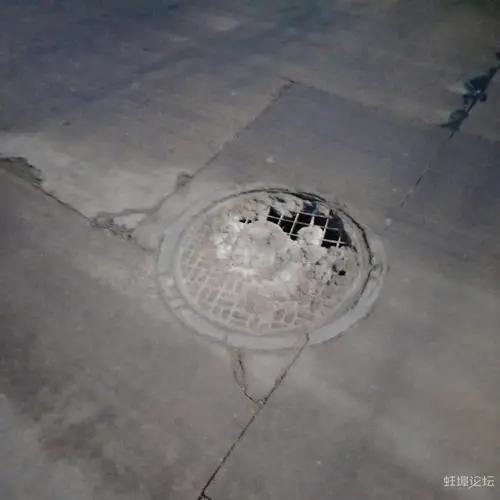wellcover: (167, 188, 378, 344)
